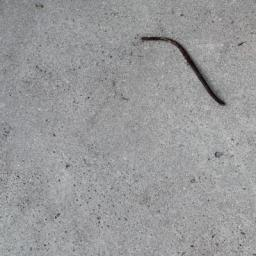FOD: (141, 36, 228, 109)
